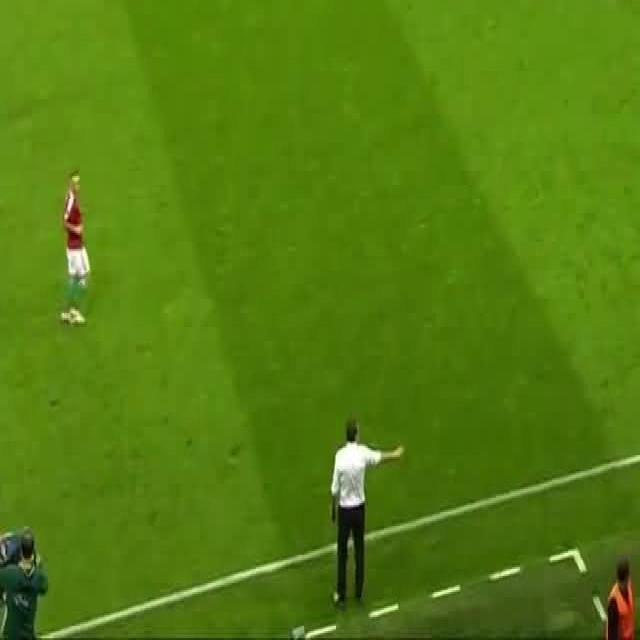player-white: (60, 170, 91, 326)
